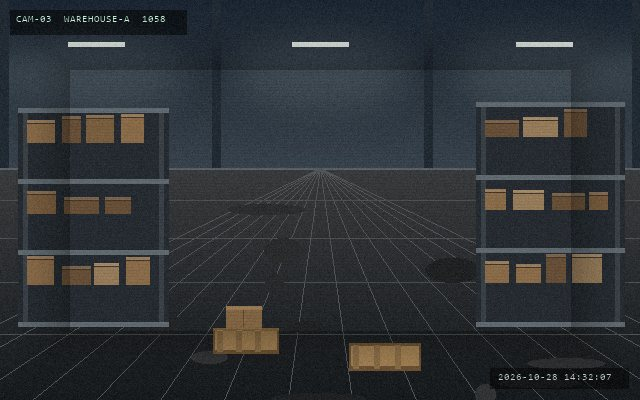pallet: (347, 341, 422, 372), (211, 326, 280, 355)
shelf: (476, 102, 624, 322), (18, 108, 168, 322)
